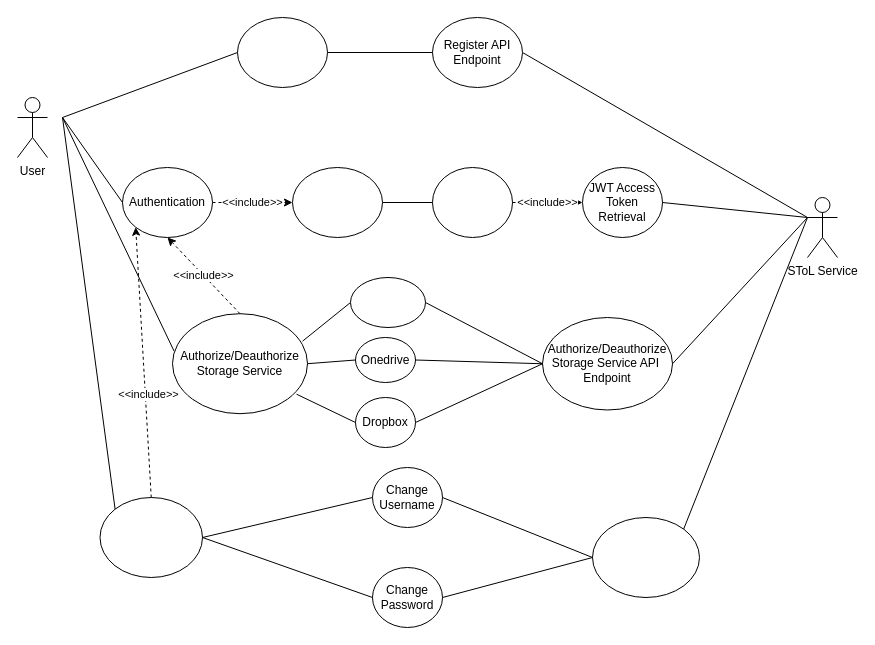
Some shapes in this 875 by 645 pixel diagram are drawn without their labels. Here are the shapes that lost their labels. From the top down, the centre of each, then its label:
the point at 282,52: Register
the point at 337,202: Login
the point at 472,202: Login API Endpoint
the point at 388,302: GoogleDrive
the point at 150,537: Change User Profile Data
the point at 646,557: Change User Profile API Endpoint
